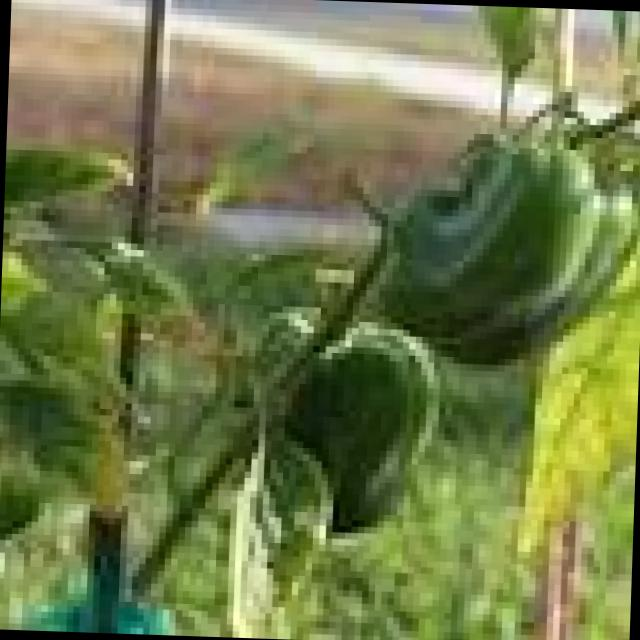Chilli_Leaf_Curl: (0, 0, 640, 640), (357, 104, 640, 369), (510, 212, 637, 568), (0, 238, 136, 556), (274, 312, 436, 528), (470, 5, 536, 77)
